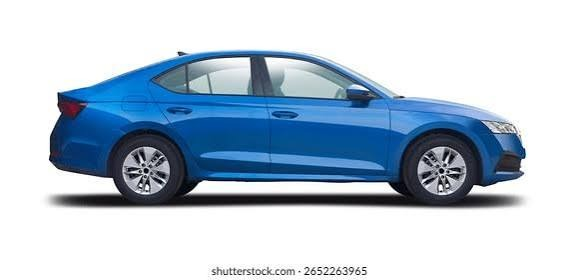car: (43, 47, 534, 201)
